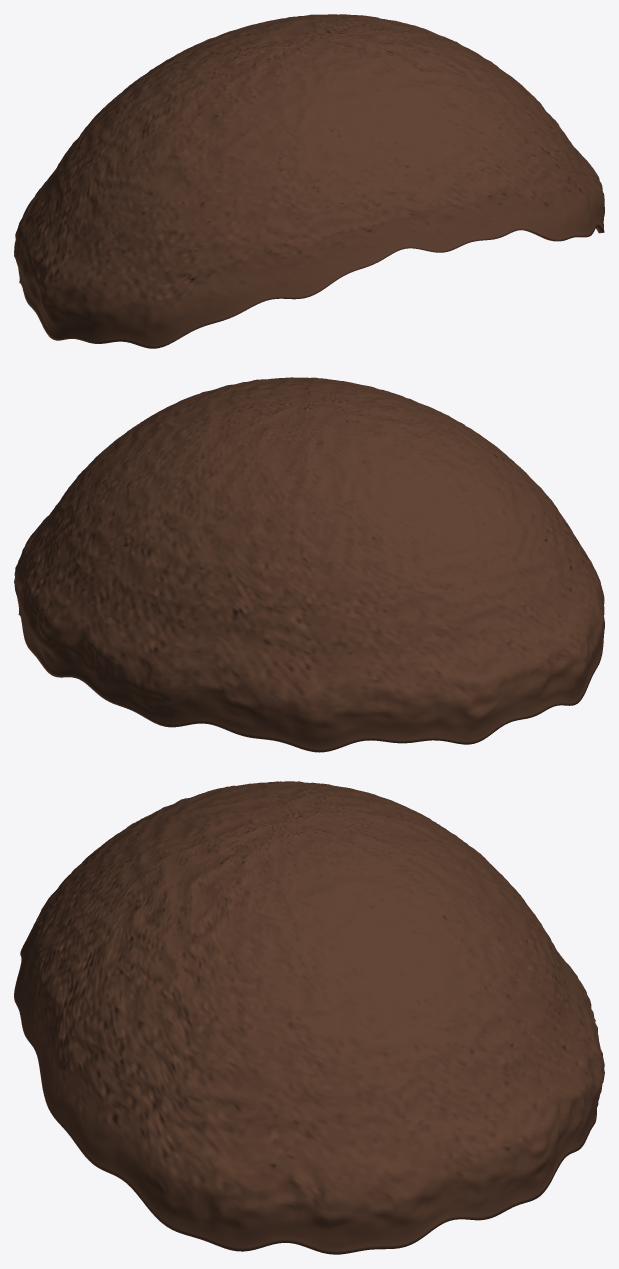
Rendered from Masculine-afro-beanie260-hair-ombre.glb.
The picture shows the model from 3 angles, top to bottom: view 1: azimuth 30°, elevation 25°; view 2: azimuth 150°, elevation 25°; view 3: azimuth 270°, elevation 25°; orthographic projection. The views are drawn at different scales.
Visible parts, largest first — view 1: 226 hair / Hair252 / dense natural coil groups.001; view 2: 226 hair / Hair252 / dense natural coil groups.001; view 3: 226 hair / Hair252 / dense natural coil groups.001.
Part boxes in pixels (x1,y1,x2,y2): 226 hair / Hair252 / dense natural coil groups.001: (14,14,604,348); 226 hair / Hair252 / dense natural coil groups.001: (14,377,604,752); 226 hair / Hair252 / dense natural coil groups.001: (14,781,604,1254).
Size of the model in its own units: 0.9775 by 0.4124 by 0.7691.
